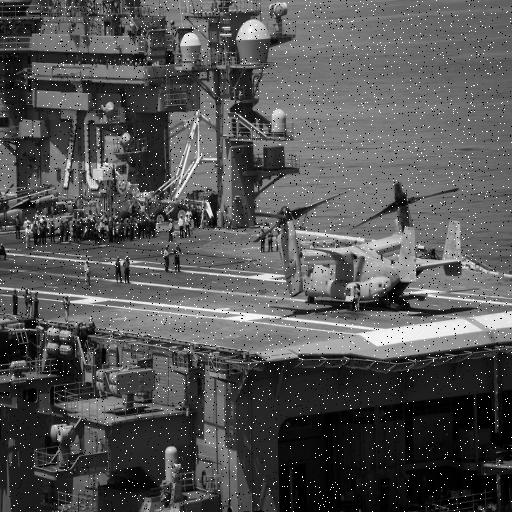Portanaves: (1, 1, 505, 512)
